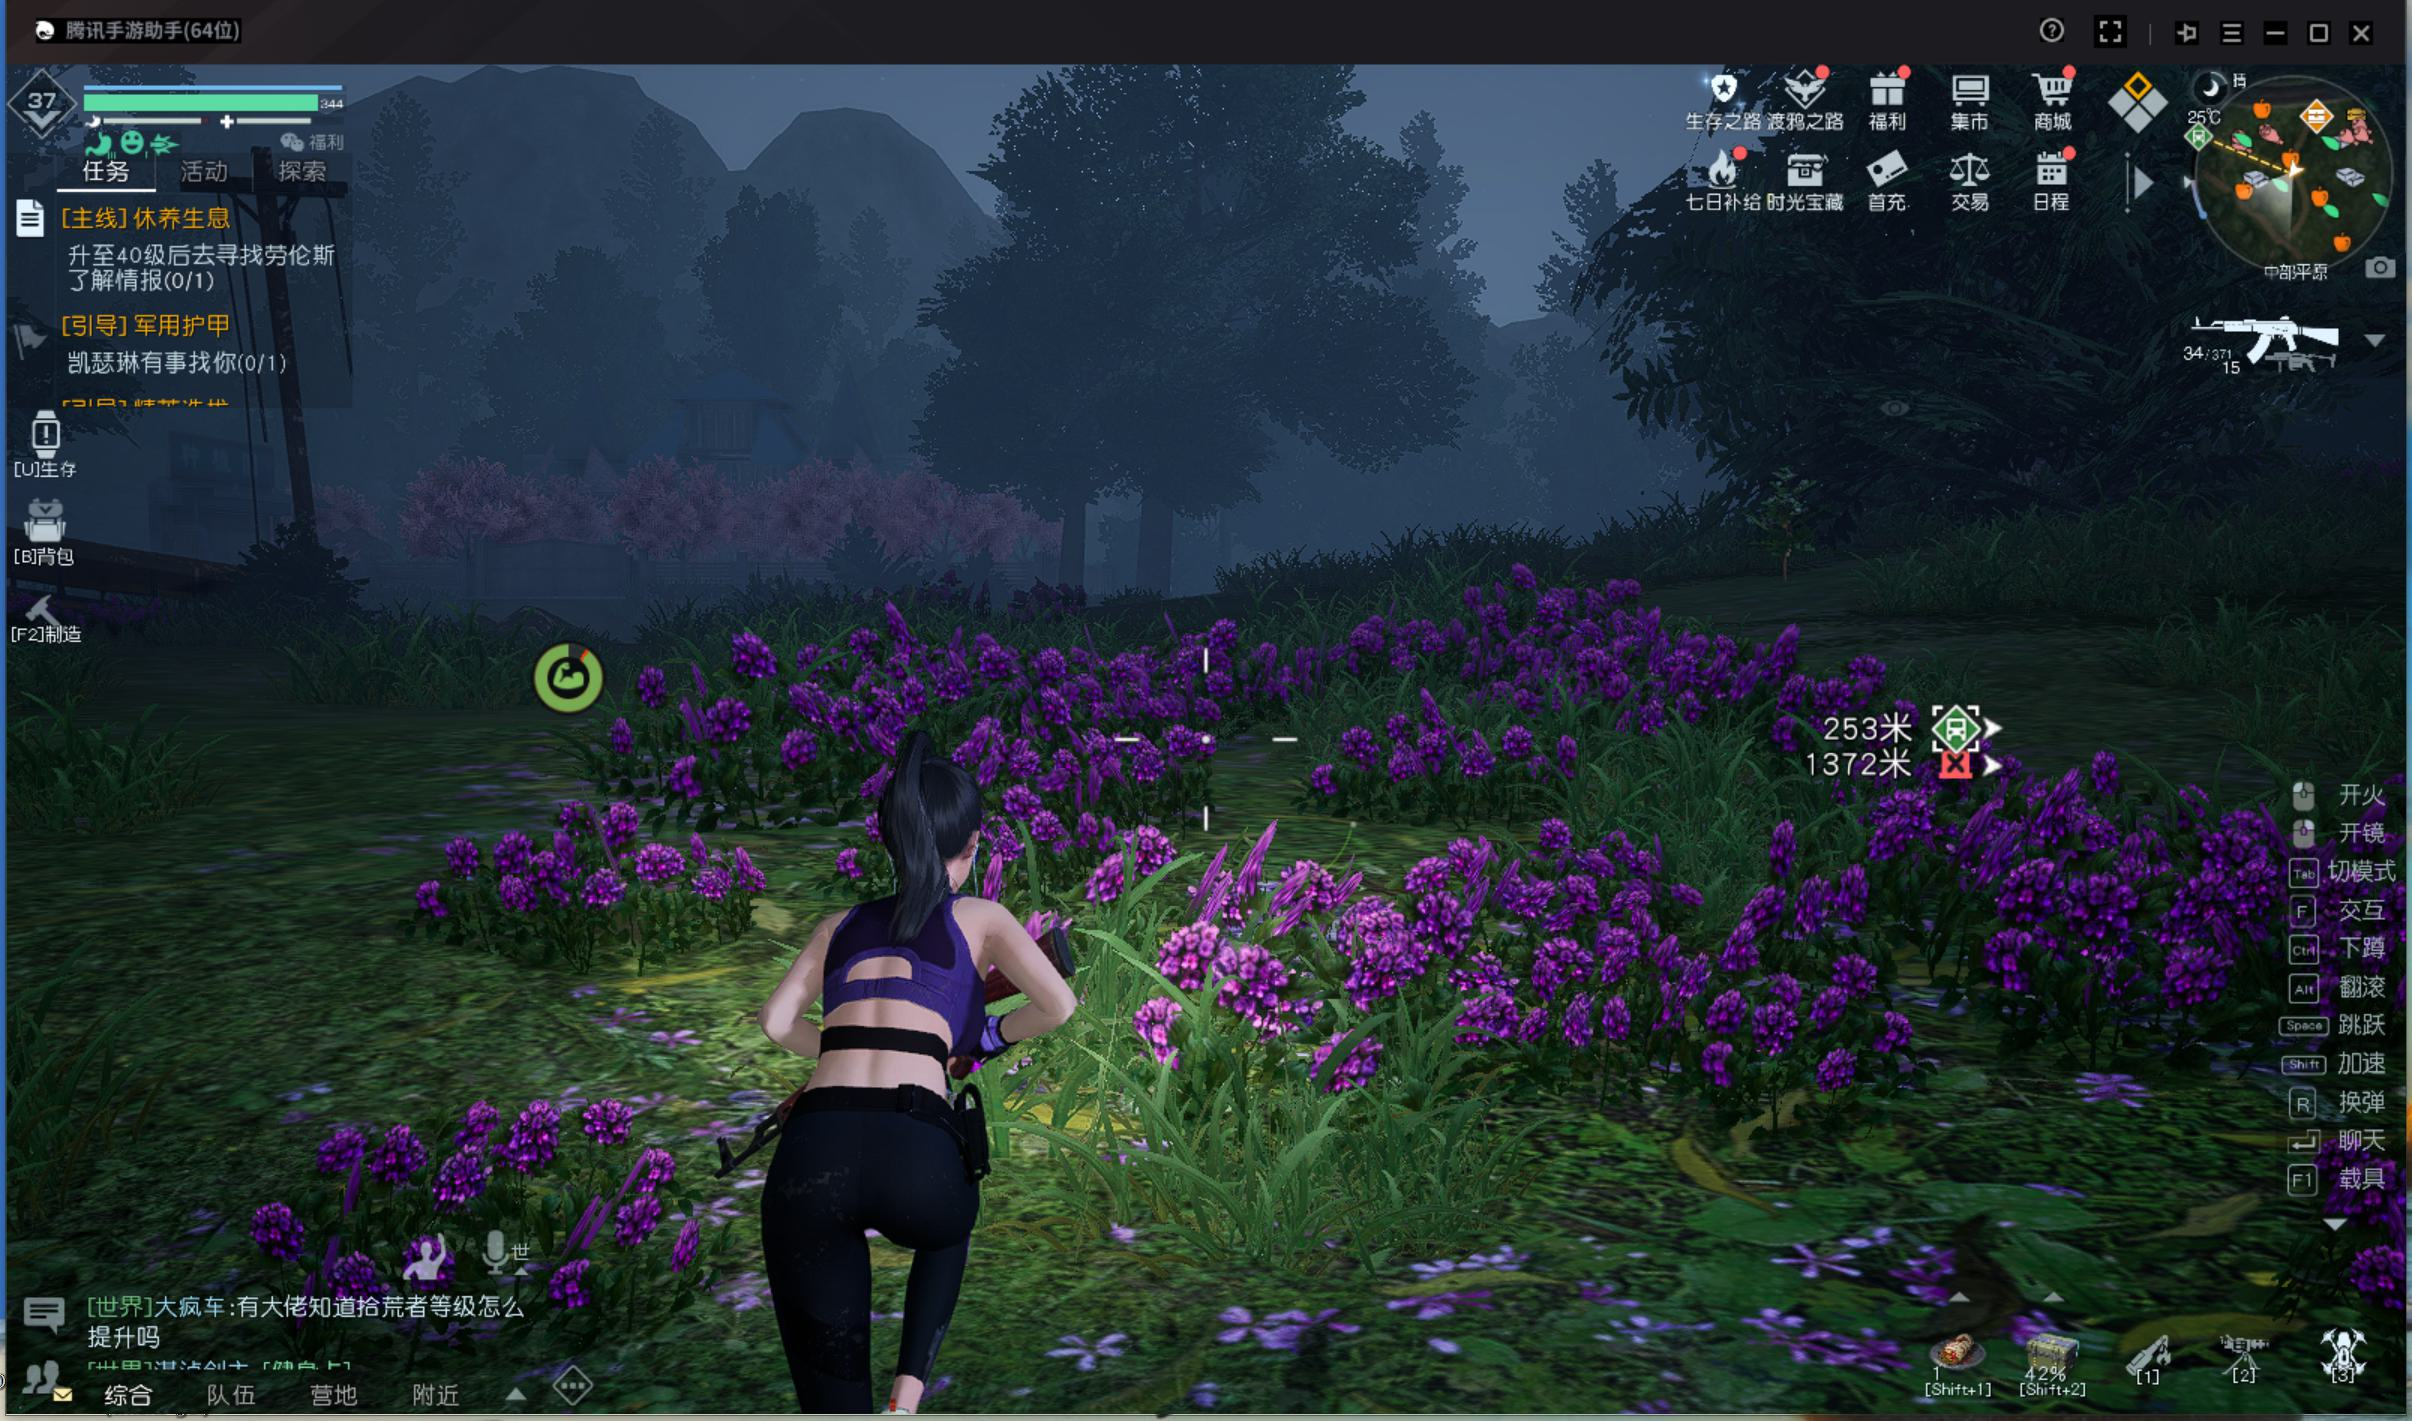tree: (1133, 497, 1174, 611), (1050, 511, 1089, 626)
